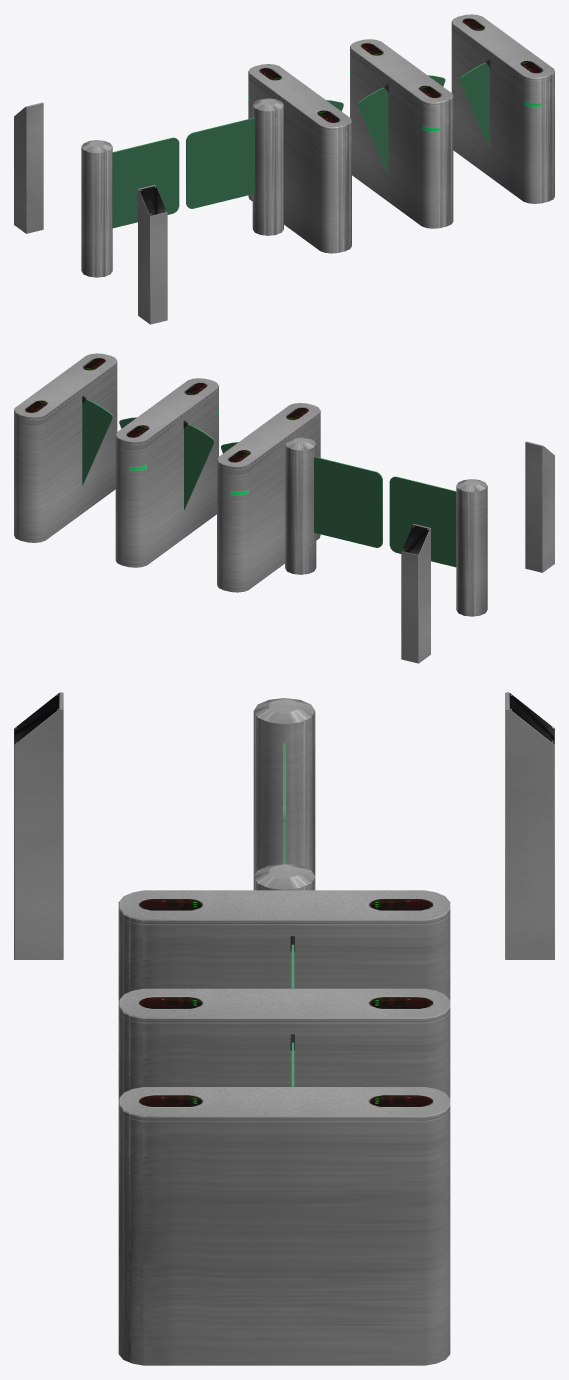
The model's file is SpeedGateSet01.gltf.
The picture shows the model from 3 angles, top to bottom: view 1: azimuth 30°, elevation 25°; view 2: azimuth 150°, elevation 25°; view 3: azimuth 270°, elevation 25°; orthographic projection. The views are drawn at different scales.
Parts seen in each view (by area): view 1: gate, gateGlass_A; view 2: gate, gateGlass_A; view 3: gate.
Boxes of the visible parts, bbox=[...] form: gate: bbox=[14, 14, 554, 324]; gateGlass_A: bbox=[112, 62, 489, 228]; gate: bbox=[14, 353, 554, 663]; gateGlass_A: bbox=[82, 399, 456, 567]; gate: bbox=[14, 692, 554, 1365].
Bounding box in the file's own units: 36.32 × 10.1 × 19.66.
Materials: 2 (2 with a texture image).
